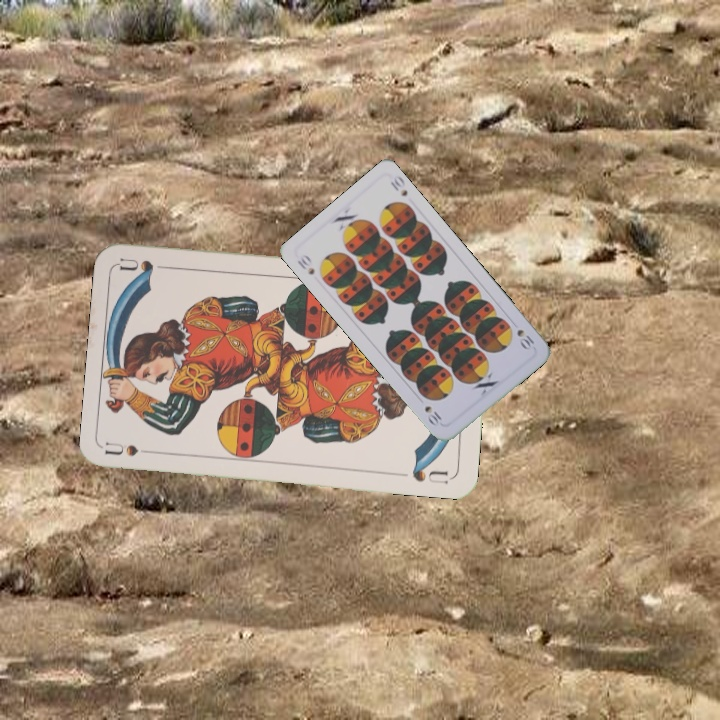S10: (513, 325, 538, 353), (293, 250, 317, 278)
SU: (103, 438, 141, 459)
